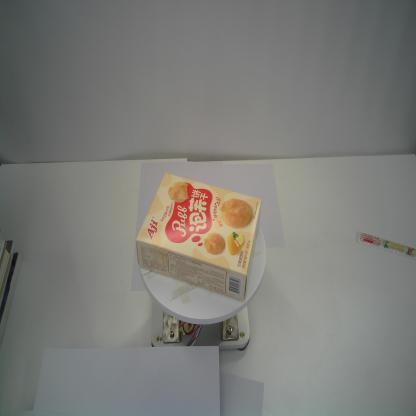Dessert: (135, 172, 262, 302)
